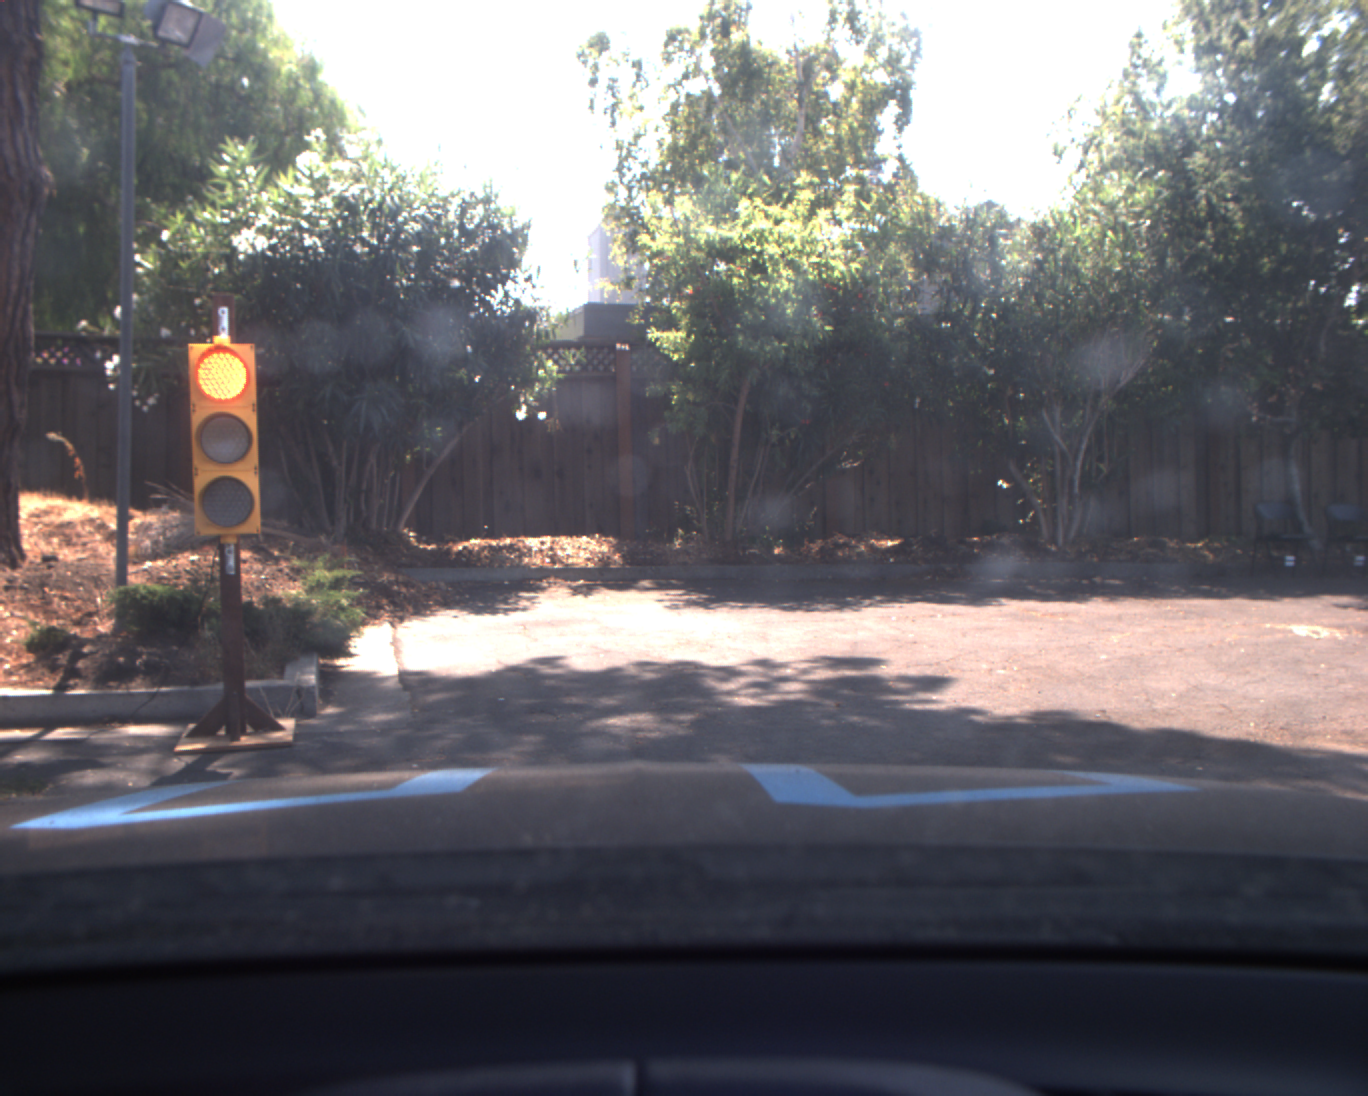red: (183, 333, 261, 538)
